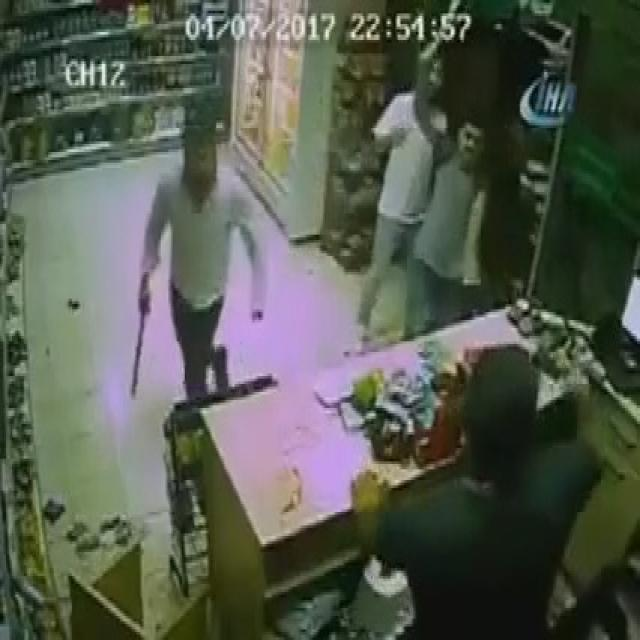fight: (361, 0, 544, 331)
